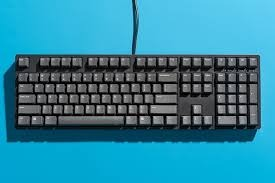keyboard: (4, 40, 263, 180)
